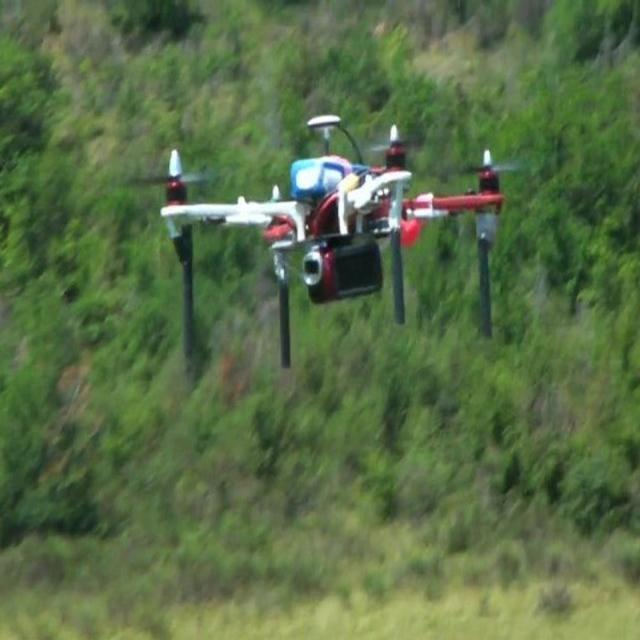drone: (139, 48, 545, 413)
